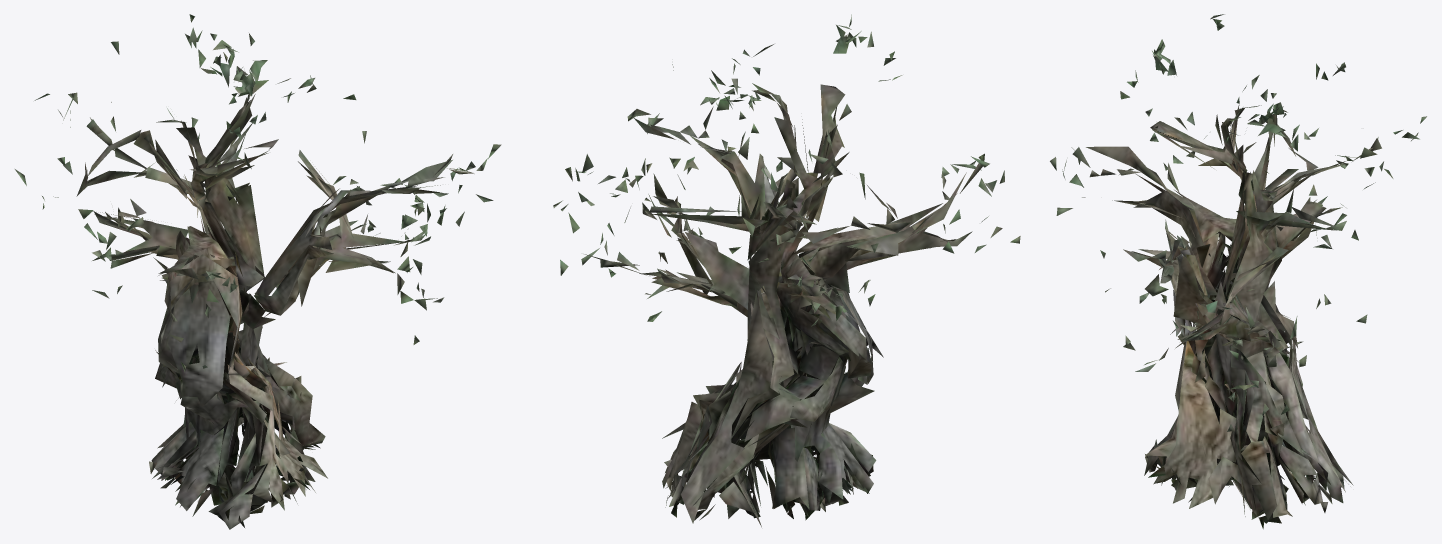
Rendered from serra_olivenbaum.glb.
3 renders of one model, left to right at view 1: azimuth 30°, elevation 25°; view 2: azimuth 150°, elevation 25°; view 3: azimuth 270°, elevation 25°, orthographic. The views are drawn at different scales.
Parts seen in each view (by area): view 1: Prop; view 2: Prop; view 3: Prop.
Boxes of the visible parts, x1,y1,x2,y2 form: Prop: (15, 14, 501, 529); Prop: (553, 14, 1020, 527); Prop: (1050, 14, 1426, 529).
Bounding box in the file's own units: 0.8759 × 0.9959 × 0.7474.
Materials: 1 (1 with a texture image).
